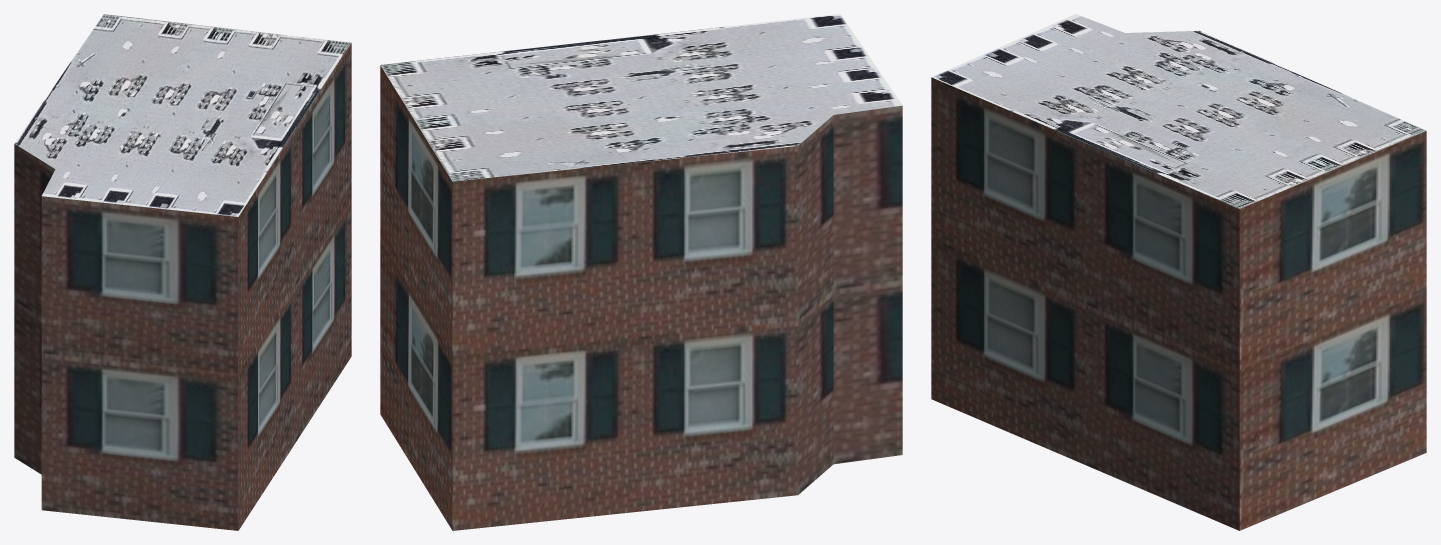
File: ResTex__4759.fbx
3 views of the same model, side by side, from view 1: azimuth 30°, elevation 25°; view 2: azimuth 150°, elevation 25°; view 3: azimuth 270°, elevation 25° (orthographic). The views are drawn at different scales.
Visible parts, largest first — view 1: CityEngineMaterial_14_m, CityEngineMaterial_m; view 2: CityEngineMaterial_14_m, CityEngineMaterial_m; view 3: CityEngineMaterial_14_m, CityEngineMaterial_m.
Part boxes in pixels (<box>): CityEngineMaterial_14_m: <box>14,43,351,530</box>; CityEngineMaterial_m: <box>14,14,350,216</box>; CityEngineMaterial_14_m: <box>380,65,902,530</box>; CityEngineMaterial_m: <box>380,14,902,181</box>; CityEngineMaterial_14_m: <box>931,77,1426,530</box>; CityEngineMaterial_m: <box>932,14,1426,208</box>.
Size of the model in its own units: 7.8 by 6 by 8.37.
Materials: 2 (2 with a texture image).
